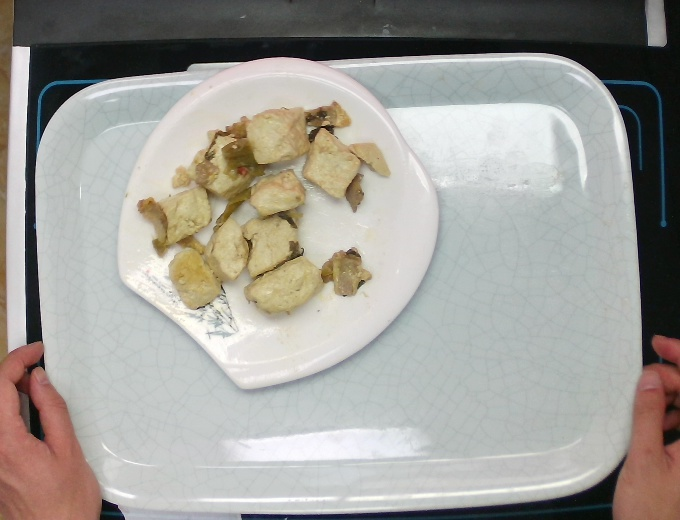JYsf-Mian_Pan: (114, 54, 441, 392)
